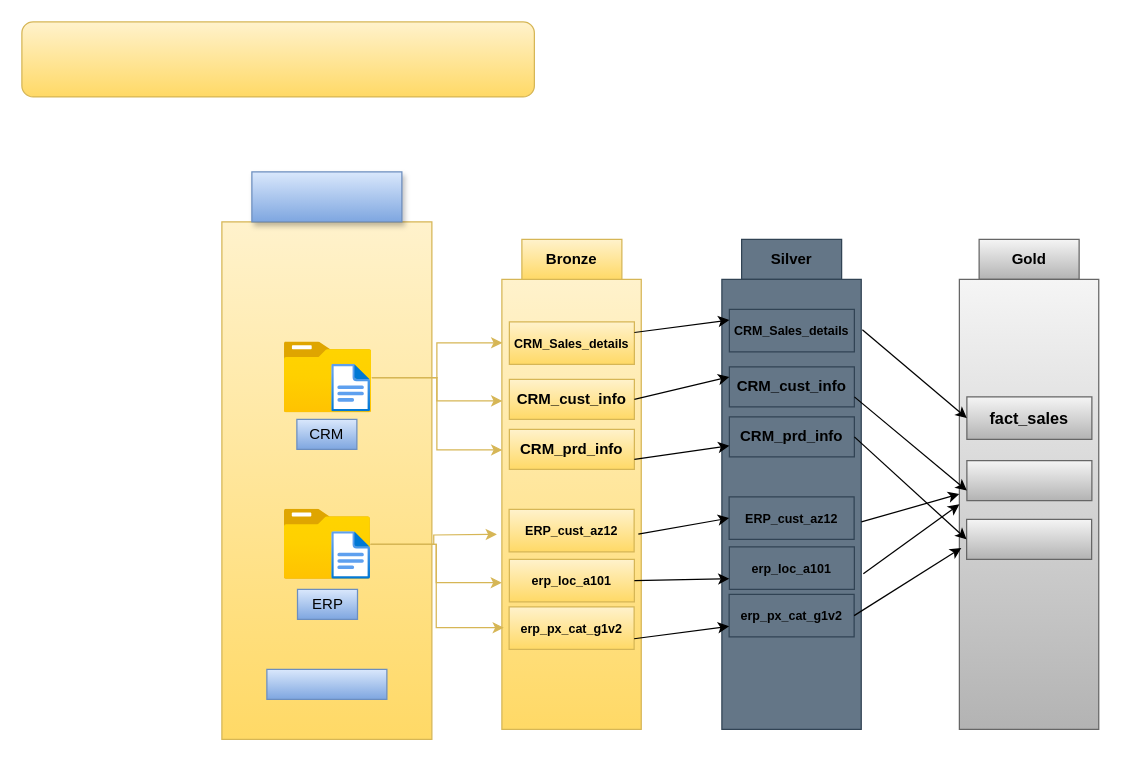
This 1121x761 diagram has some shape labels left out. Here are the shapes that lost their labels. From the top down, the centre of each, then its label:
At point 277,59: "DATA FLOW DAIGRAM".
At point 327,198: "Sources".
At point 1029,480: "dim_customers".
At point 1028,538: "dim_products".
At point 326,683: "CSV Files".
